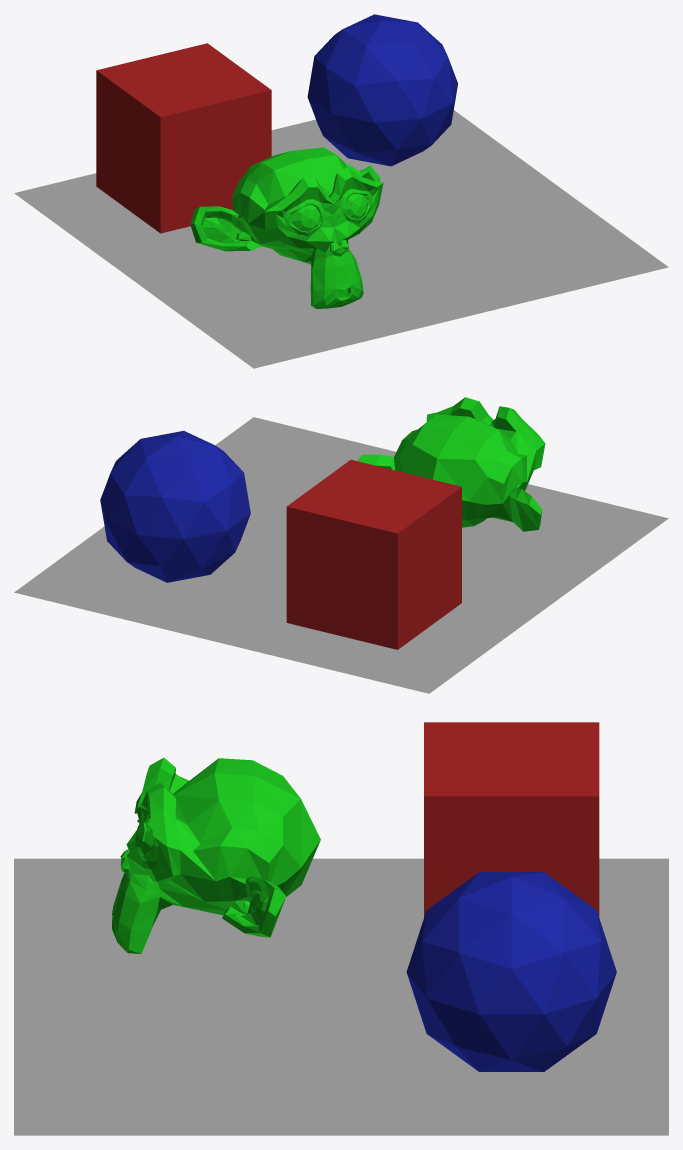
3 views of the same model, one above another, from view 1: azimuth 30°, elevation 25°; view 2: azimuth 150°, elevation 25°; view 3: azimuth 270°, elevation 25° (orthographic). The views are drawn at different scales.
Parts seen in each view (by area): view 1: Plane, Cube, Icosphere, Monkey; view 2: Plane, Cube, Icosphere, Monkey; view 3: Plane, Icosphere, Cube, Monkey.
Part boxes in pixels (x1=…): Plane: x1=14, y1=110, x2=668, y2=368; Cube: x1=96, y1=43, x2=271, y2=233; Icosphere: x1=307, y1=14, x2=457, y2=166; Monkey: x1=190, y1=147, x2=383, y2=308; Plane: x1=14, y1=417, x2=668, y2=693; Cube: x1=286, y1=459, x2=461, y2=649; Icosphere: x1=100, y1=430, x2=250, y2=582; Monkey: x1=358, y1=397, x2=545, y2=531; Plane: x1=14, y1=858, x2=668, y2=1135; Icosphere: x1=406, y1=872, x2=616, y2=1071; Cube: x1=424, y1=722, x2=599, y2=917; Monkey: x1=112, y1=757, x2=320, y2=953.
Bounding box in the file's own units: 8.91 × 2.86 × 8.91.
